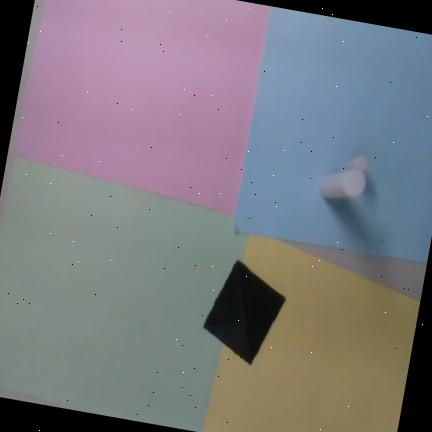Cilindro: (319, 169, 366, 198), (342, 155, 369, 172)
Piramide: (203, 259, 285, 366)
